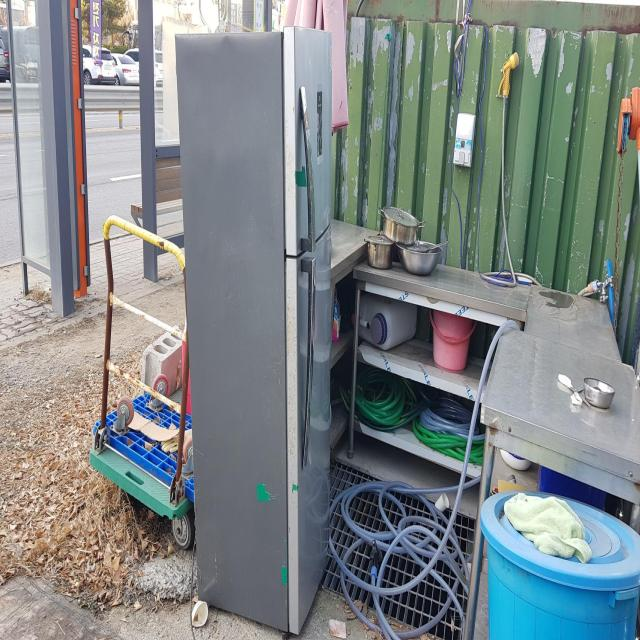refrigerator: (175, 25, 332, 636)
